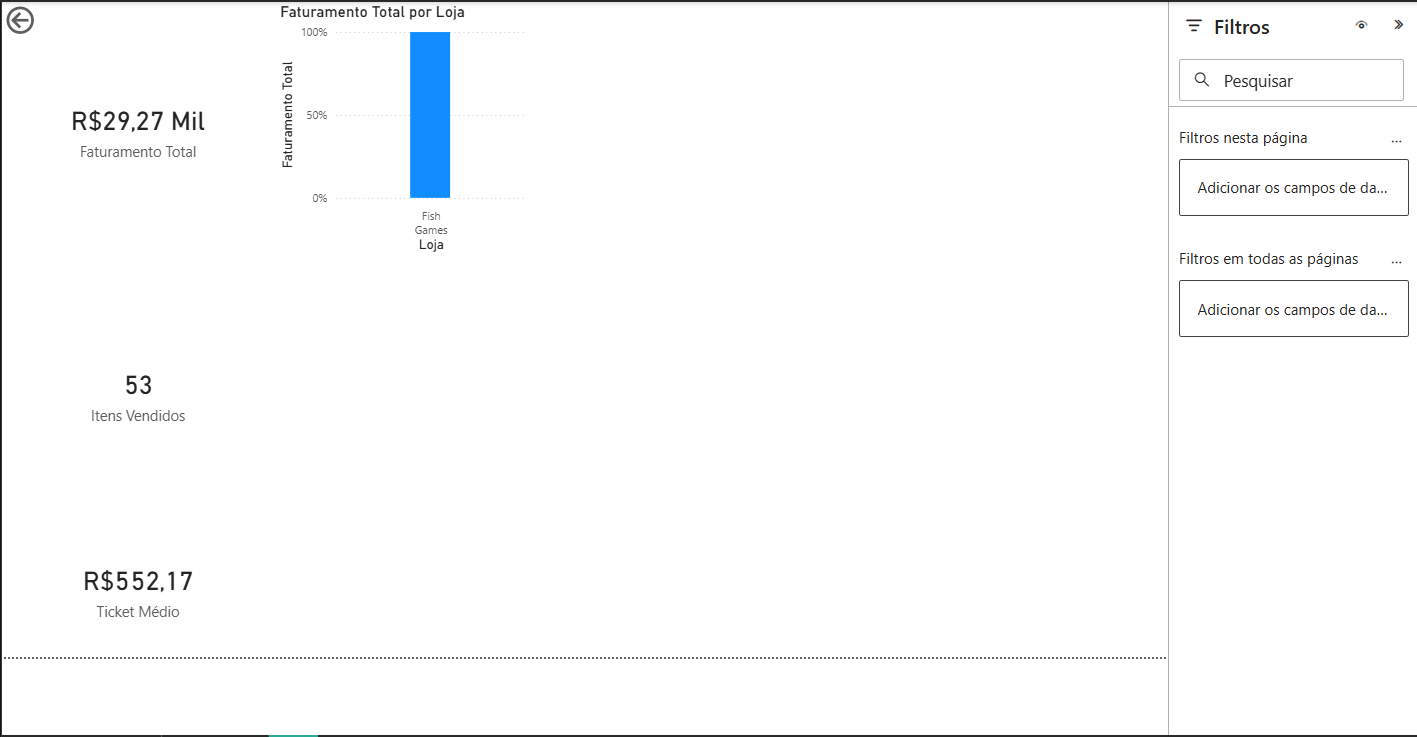

The dashboard page shown, as its layout file describes it:
{"tool":"powerbi","page":{"name":"Página 1","canvas":[1280,720],"ordinal":0},"visuals":[{"type":"card","fields":{"Values":["Tabela2.Faturamento Total"]},"box":[10,0,280,280],"z":0},{"type":"actionButton","box":[0,0,100,40],"z":1000},{"type":"card","fields":{"Values":["Tabela2.Itens Vendidos"]},"box":[10,290,280,280],"z":2000},{"type":"card","fields":{"Values":["Tabela2.Ticket Médio"]},"box":[10,570,280,150],"z":3000},{"type":"hundredPercentStackedColumnChart","fields":{"Category":["Tabela2.Loja"],"Y":["Tabela2.Faturamento Total"]},"box":[300,0,280,280],"z":4000}]}

Visuals, with their boxes in screenshot pixels (x1, y1, x2, y2):
card - Tabela2.Faturamento Total: Rect(0, 0, 282, 283)
actionButton: Rect(0, 0, 90, 40)
card - Tabela2.Itens Vendidos: Rect(0, 293, 282, 576)
card - Tabela2.Ticket Médio: Rect(0, 576, 282, 728)
hundredPercentStackedColumnChart - Tabela2.Loja x Tabela2.Faturamento Total: Rect(292, 0, 575, 283)
